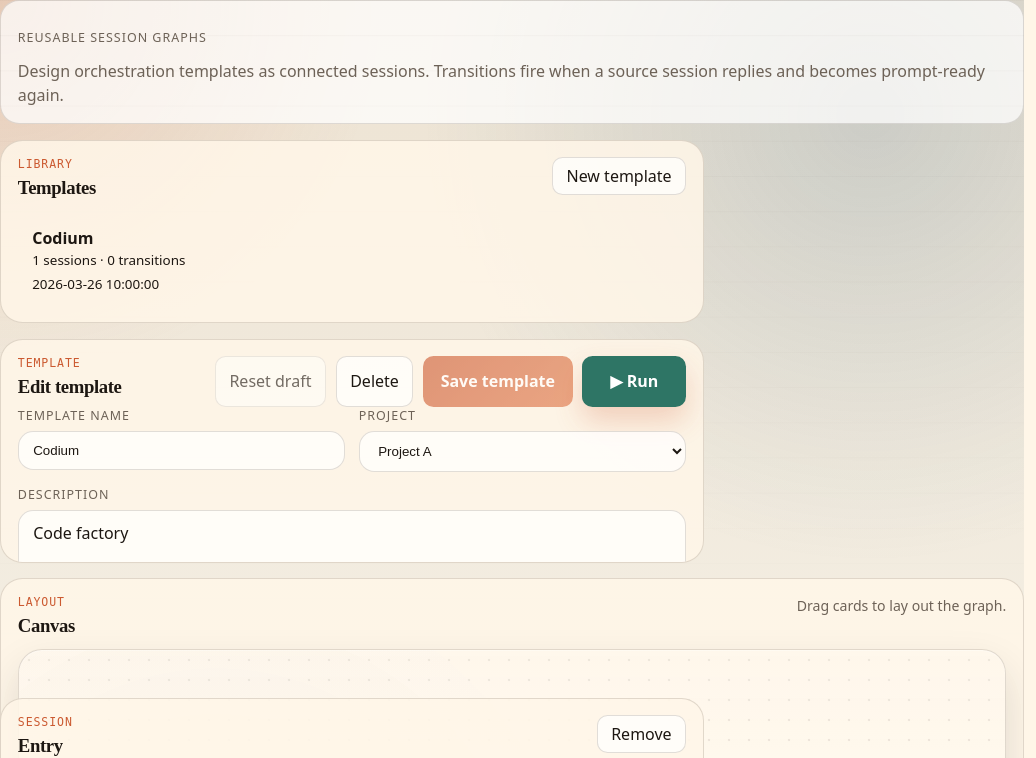
Test: OrchestratorTemplatesPanel › clears dirty state after saving an existing template
Expected: the field showing "Codium" is shown, [18,431,345,470]
Replace the text in the text box labelled "Description" with "Code factory updated" at (352, 556), box [18,510,686,603]
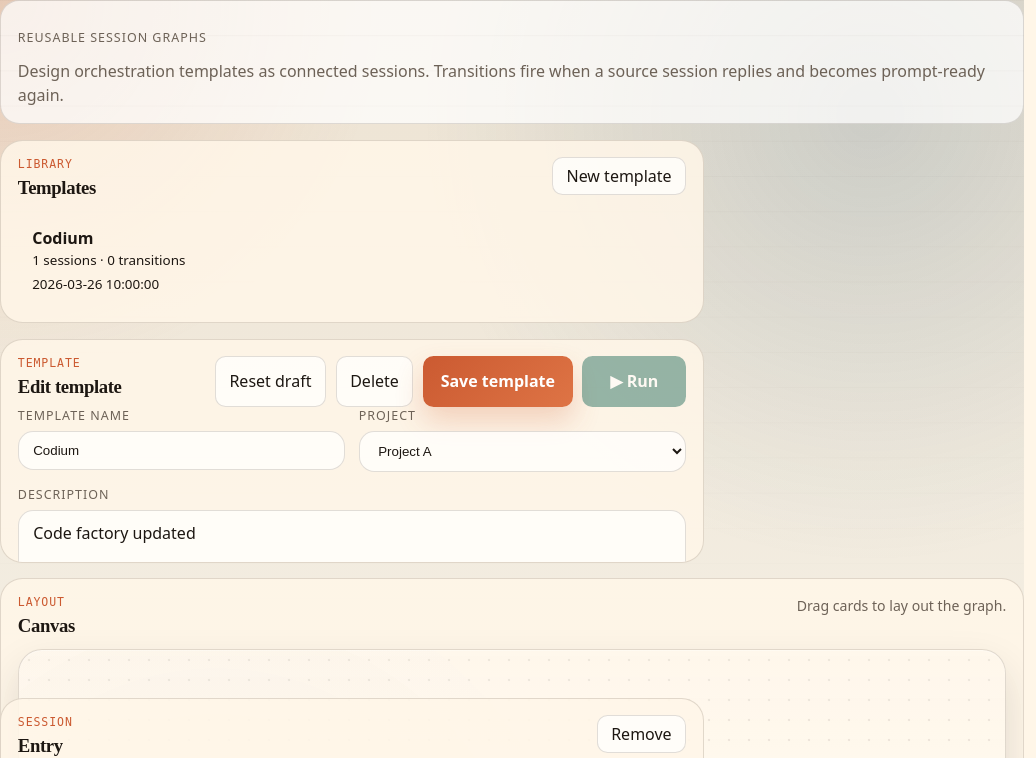
Now the button "Save template" is enabled
Click the button "Save template" at (498, 381), box [423,356,573,407]
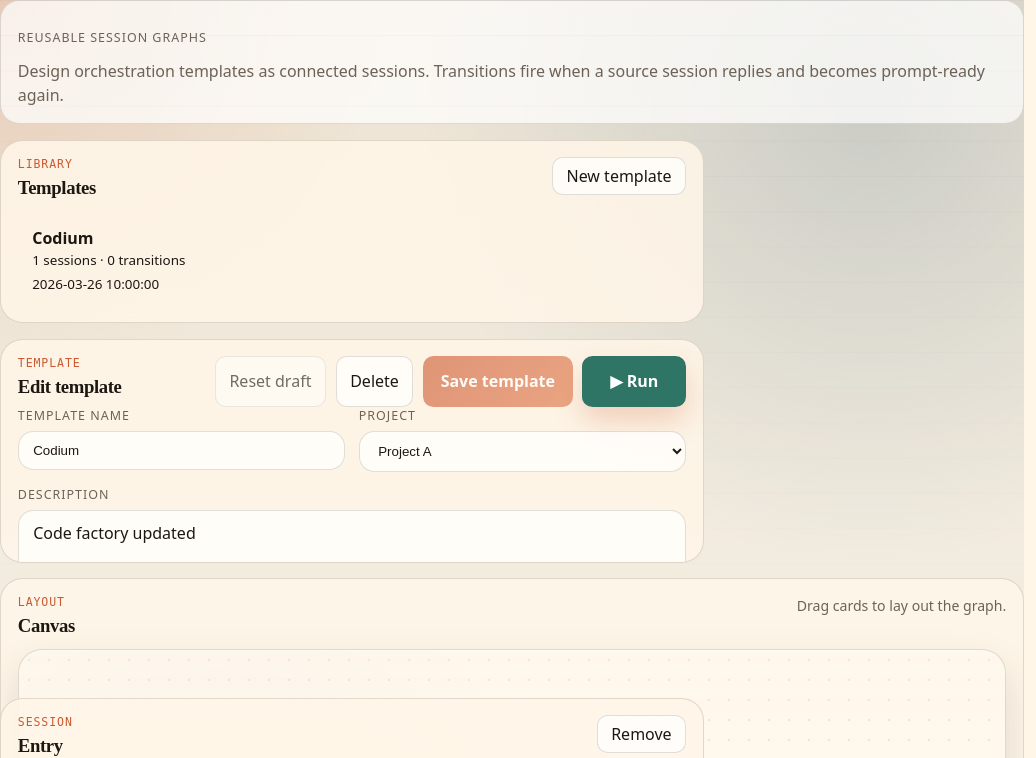
Expected: the text "Template saved." is shown, [18,604,125,623]
Now the button "Save template" is disabled, box [423,356,573,407]
Now the button "▶ Run" is enabled, box [582,356,686,407]
